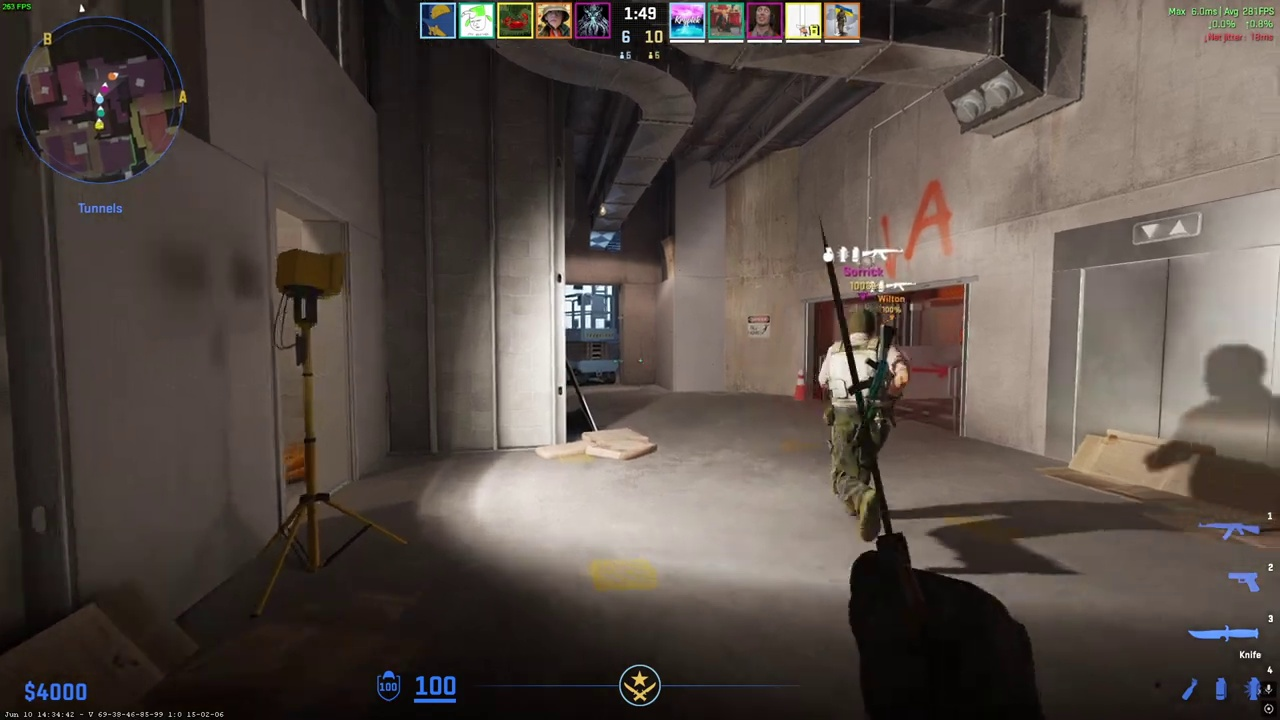Terrorist: (818, 310, 900, 537)
